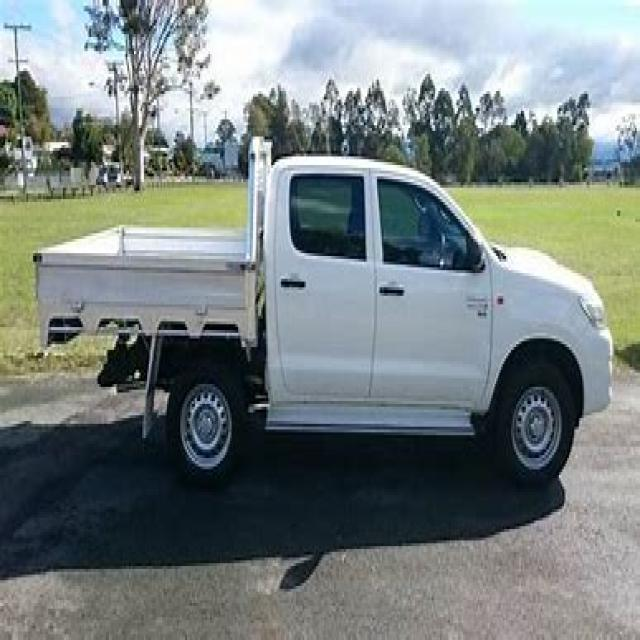light_vehicle: (28, 131, 622, 503)
